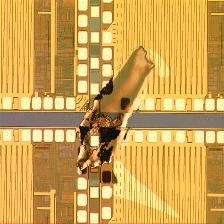PARTICLE: (77, 46, 157, 188)
